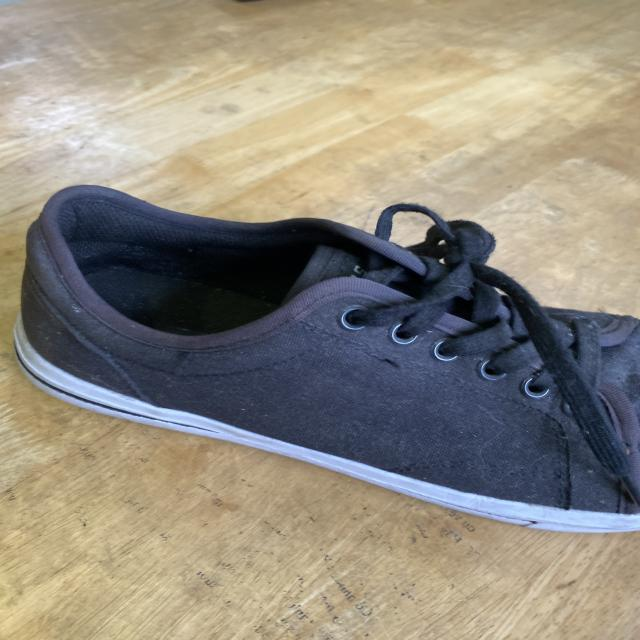broken-error: (142, 340, 207, 374), (369, 347, 415, 378)
